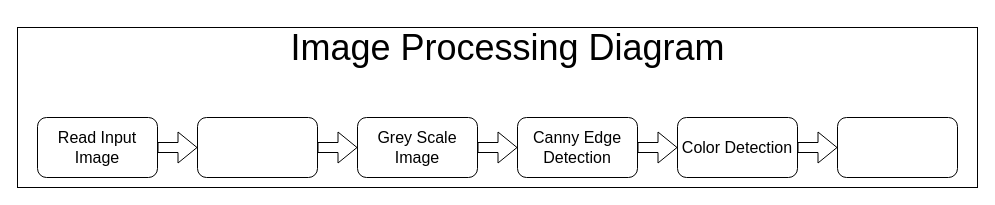
Image size: 995x205. Some labels were removed from this diagram. The centre of each missing label's shape, as x and y in pixels:
"Image Enhancement" belongs at (x=257, y=147).
"Image Segmentation" belongs at (x=897, y=147).
